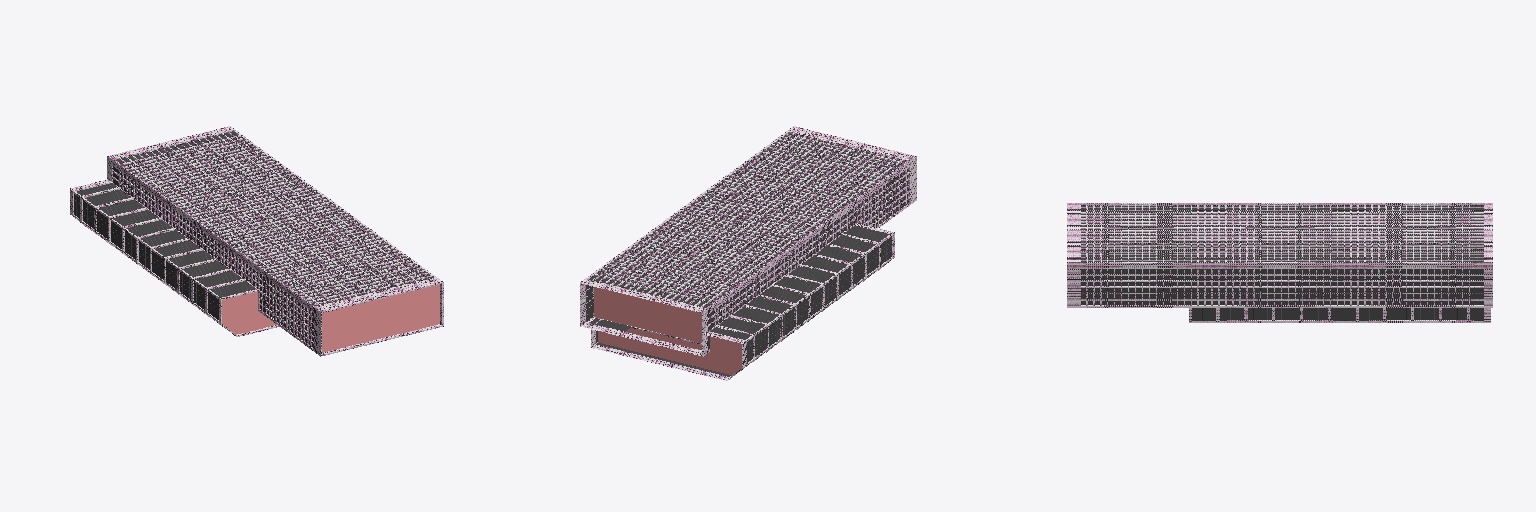
3 renders of one model, left to right at view 1: azimuth 30°, elevation 25°; view 2: azimuth 150°, elevation 25°; view 3: azimuth 270°, elevation 25°, orthographic.
Visible parts, largest first — view 1: wall_10, wall_09, glass_02, slab_01, glass_01, wall_03, wall_05, wall_04, wall_06, wall_07, wall_01, frame_01; view 2: wall_09, glass_02, wall_10, glass_01, slab_01, wall_03, wall_05, wall_01, wall_06, wall_04, wall_02, wall_07 (+1 smaller); view 3: glass_02, wall_09, wall_03, wall_05, glass_01, wall_04, wall_01, wall_07, wall_06.
Part boxes in pixels (left/top/right/bottom): wall_10: left=73, top=130, right=443, bottom=355; wall_09: left=112, top=130, right=434, bottom=324; glass_02: left=113, top=131, right=432, bottom=347; slab_01: left=222, top=284, right=439, bottom=352; glass_01: left=74, top=183, right=254, bottom=319; wall_03: left=119, top=135, right=431, bottom=346; wall_05: left=112, top=130, right=435, bottom=350; wall_04: left=314, top=277, right=442, bottom=356; wall_06: left=80, top=187, right=277, bottom=335; wall_07: left=73, top=182, right=256, bottom=328; wall_01: left=107, top=126, right=234, bottom=180; frame_01: left=75, top=185, right=251, bottom=311; wall_09: left=586, top=133, right=909, bottom=326; glass_02: left=586, top=133, right=907, bottom=349; wall_10: left=594, top=132, right=909, bottom=378; glass_01: left=596, top=226, right=891, bottom=376; slab_01: left=594, top=233, right=887, bottom=374; wall_03: left=592, top=133, right=906, bottom=343; wall_05: left=585, top=131, right=909, bottom=352; wall_01: left=580, top=279, right=707, bottom=356; wall_06: left=716, top=223, right=894, bottom=372; wall_04: left=788, top=126, right=916, bottom=204; wall_02: left=591, top=329, right=746, bottom=380; wall_07: left=596, top=225, right=892, bottom=376; glass_02: left=1081, top=206, right=1483, bottom=304; wall_09: left=1081, top=207, right=1483, bottom=300; wall_03: left=1086, top=203, right=1469, bottom=307; wall_05: left=1081, top=203, right=1483, bottom=307; glass_01: left=1192, top=308, right=1483, bottom=319; wall_04: left=1067, top=203, right=1080, bottom=307; wall_01: left=1484, top=203, right=1492, bottom=307; wall_07: left=1192, top=320, right=1483, bottom=322; wall_06: left=1189, top=308, right=1469, bottom=322.
Size of the model in its own units: 3582 by 1360 by 8178.
5 materials, 2 textured.